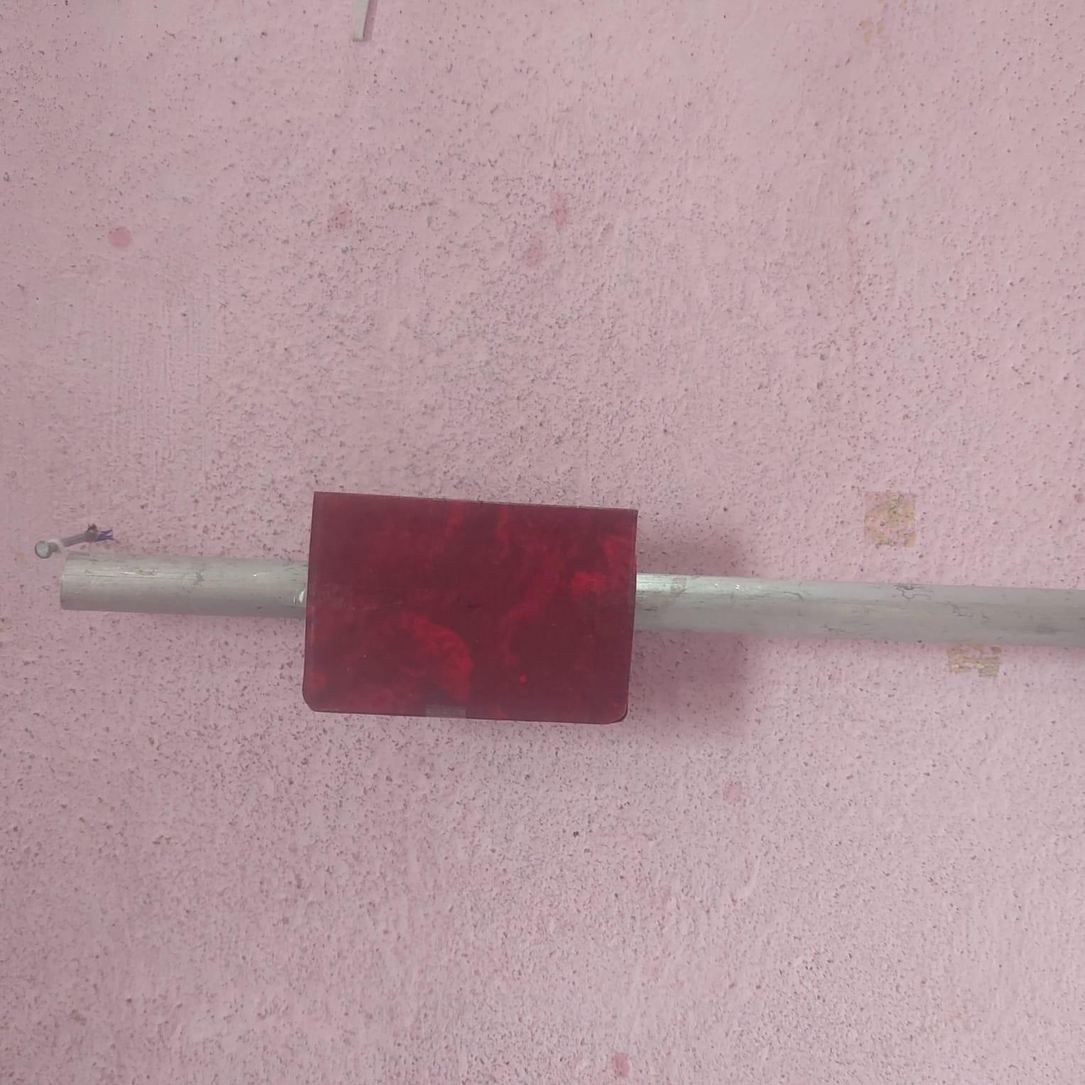wallet: (303, 490, 639, 722)
